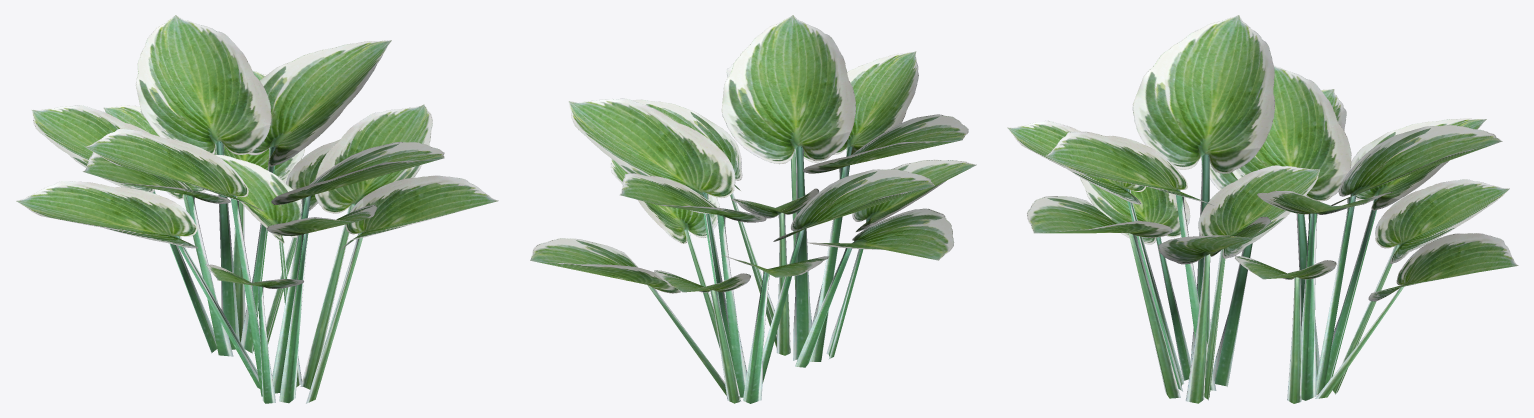
The model's file is plant_small_wg_05N.fbx.
3 views of the same model, side by side, from view 1: azimuth 30°, elevation 25°; view 2: azimuth 150°, elevation 25°; view 3: azimuth 270°, elevation 25° (orthographic). The views are drawn at different scales.
Parts seen in each view (by area): view 1: plant_small_wg_05N; view 2: plant_small_wg_05N; view 3: plant_small_wg_05N.
Boxes of the visible parts, bbox=[...] form: plant_small_wg_05N: bbox=[16, 15, 498, 403]; plant_small_wg_05N: bbox=[530, 15, 976, 403]; plant_small_wg_05N: bbox=[1007, 15, 1518, 403].
Size of the model in its own units: 59.31 by 41.59 by 67.96.
